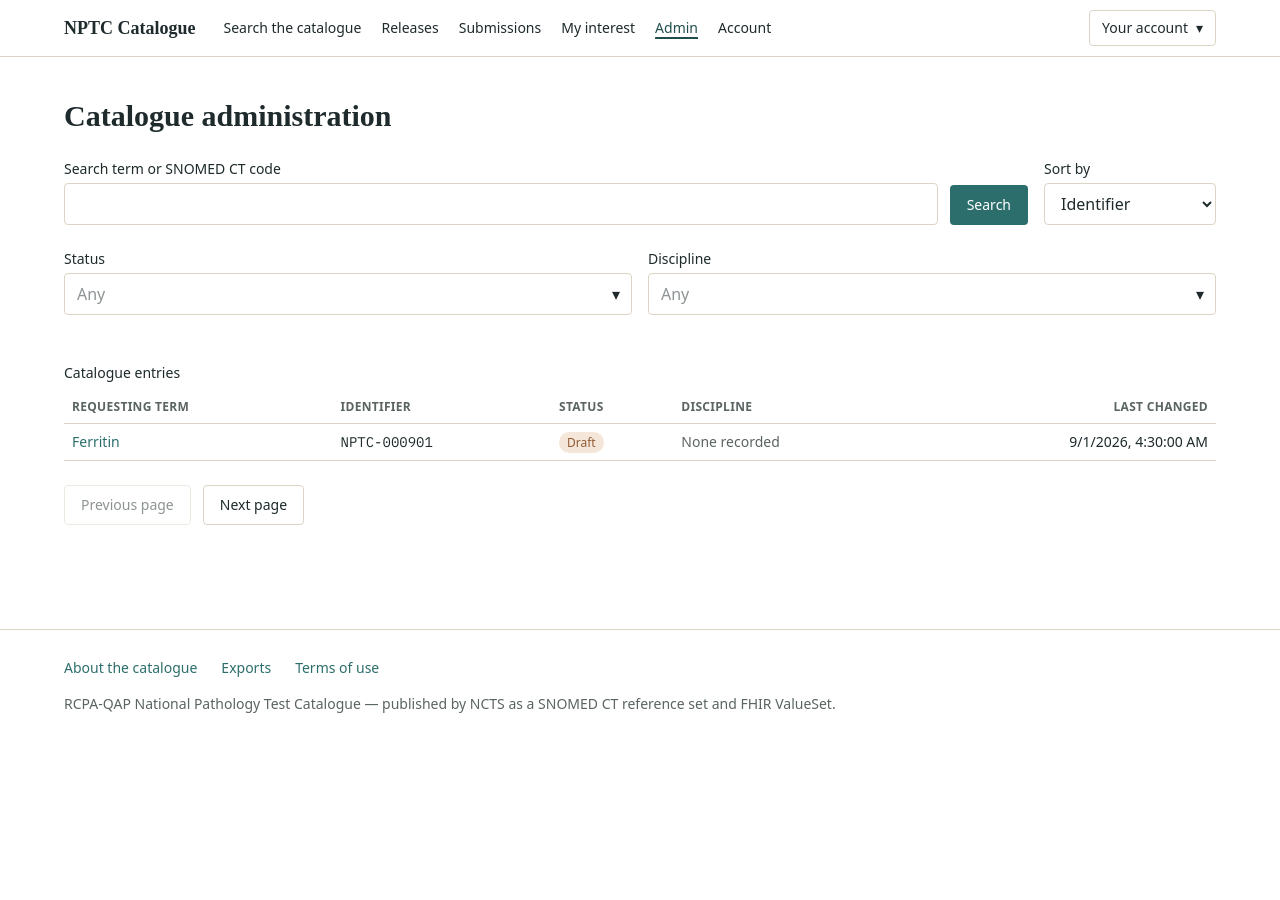
it: AdminCatalogueListPage › paging › keeps Previous when a later page comes back empty
The image size is (1280, 900).
Expected: the link "Ferritin" is shown, [72,432,120,452]
Click the button "Next page": point(253, 504) [203,484,304,524]
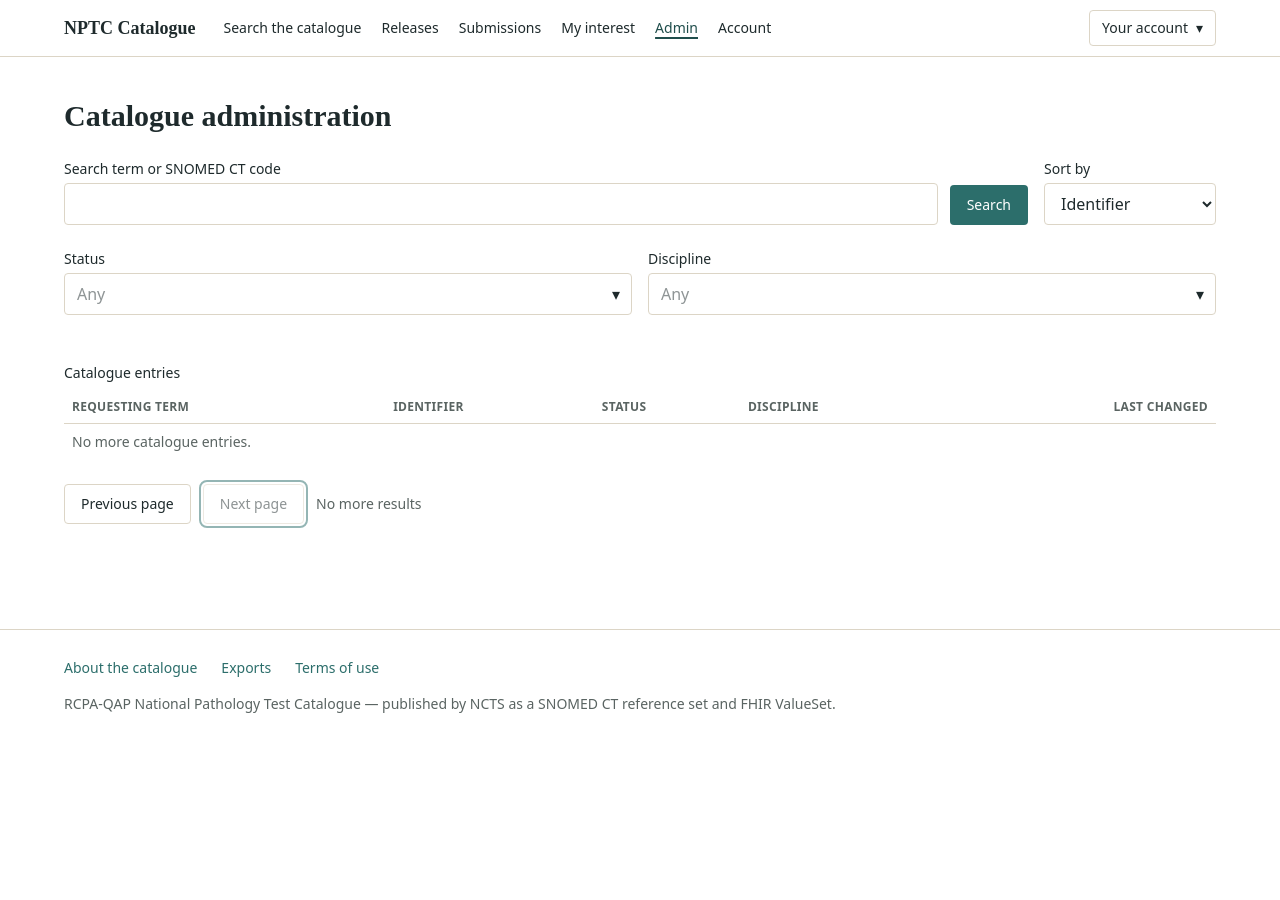
Expected: the text "No more catalogue entries." is shown, [72,432,251,452]
Click the button "Previous page": point(127, 504) [64,484,191,524]
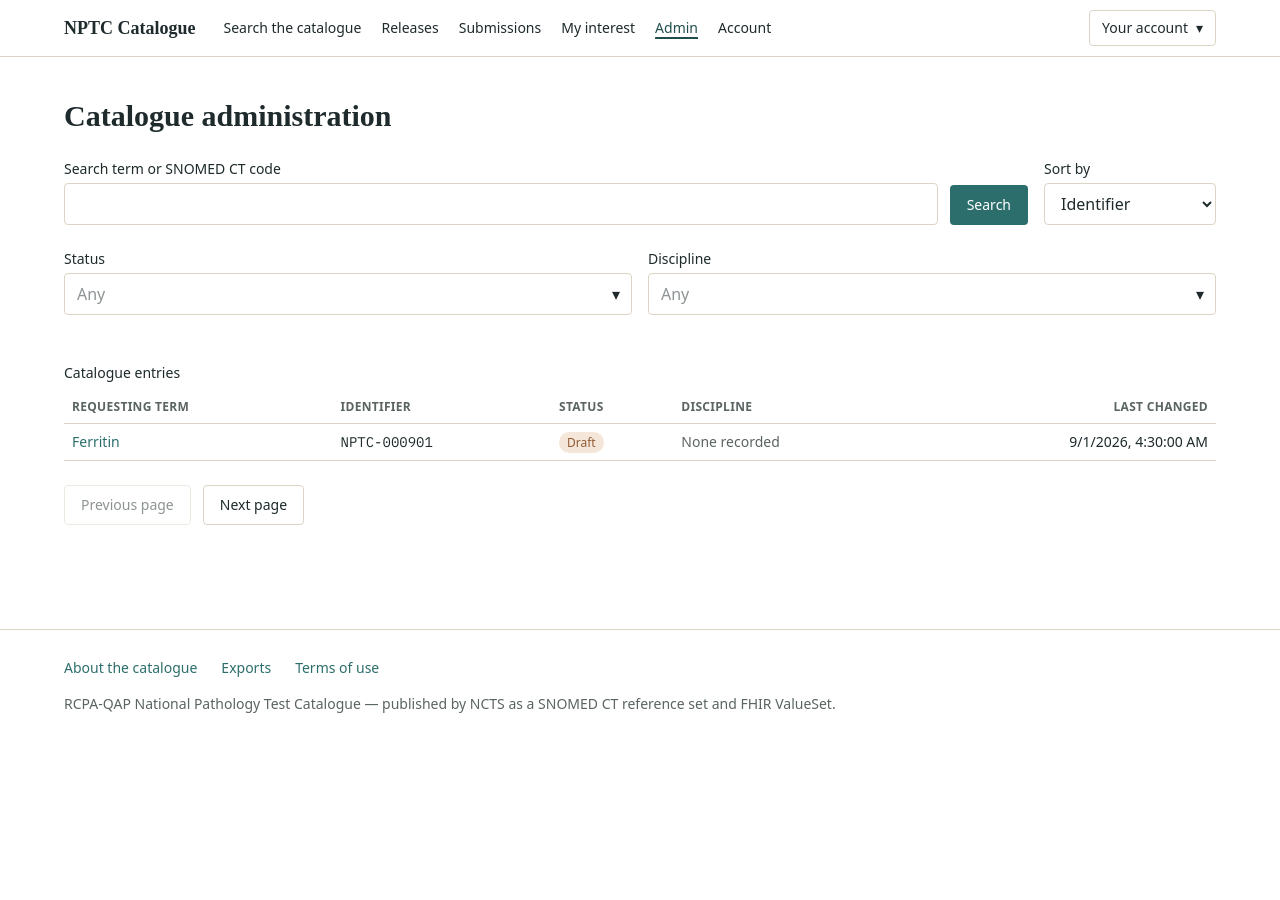
Expected: the link "Ferritin" is shown, [72,432,120,452]
